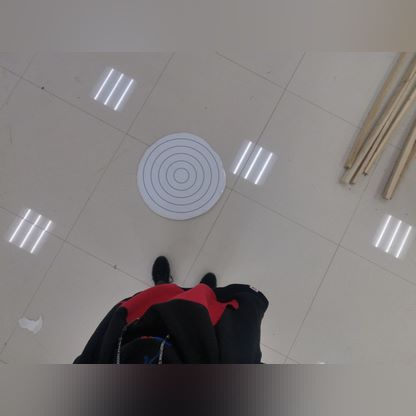W: (133, 128, 228, 220)
